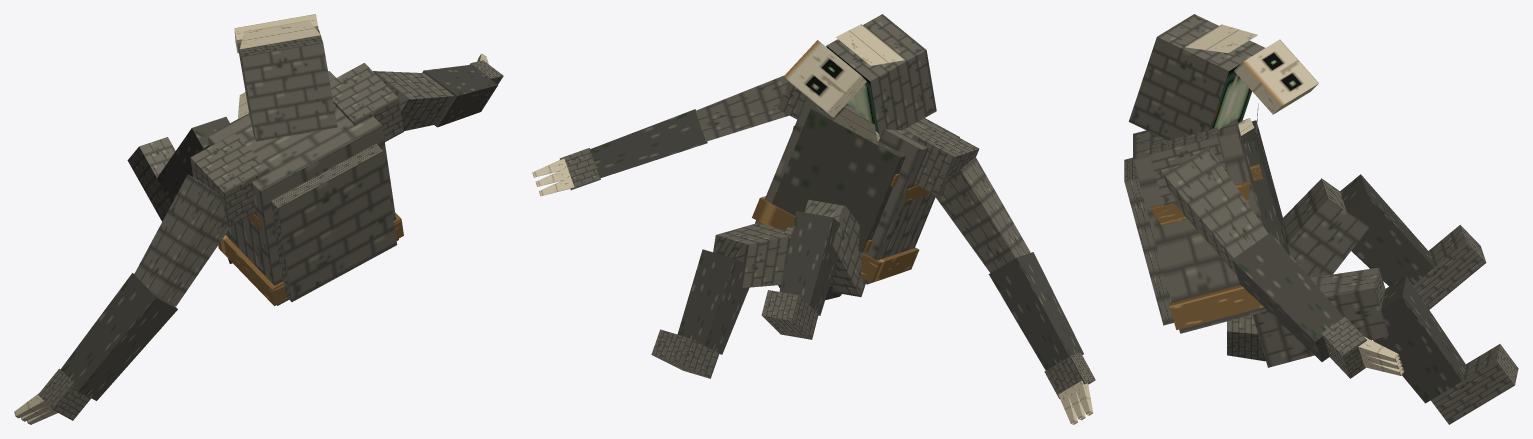
Rendered from reded_death.obj.
3 views of the same model, side by side, from view 1: azimuth 30°, elevation 25°; view 2: azimuth 150°, elevation 25°; view 3: azimuth 270°, elevation 25° (orthographic). The views are drawn at different scales.
Visible parts, largest first — view 1: spine, head, arm_l_upper, arm_l_fore, shoulder_l, shoulder_r, arm_r_upper, arm_r_fore, arm_l_hand, leg_l_foot, leg_l_shin, mask_upper; view 2: spine, head, arm_l_upper, arm_l_fore, leg_r_shin, leg_l_shin, arm_r_fore, leg_r_thigh, mask_upper, arm_r_upper, leg_l_thigh, shoulder_l (+5 smaller); view 3: spine, head, arm_r_fore, arm_r_upper, leg_r_shin, leg_l_thigh, leg_r_thigh, leg_l_shin, mask_upper, leg_r_foot, leg_l_foot, arm_r_hand (+2 smaller).
Part boxes in pixels (x1,y1,x2,y2): spine: (208,71,403,305); head: (237,20,337,141); arm_l_upper: (134,174,231,306); arm_l_fore: (60,273,177,400); shoulder_l: (190,133,269,226); shoulder_r: (330,63,403,141); arm_r_upper: (373,71,454,130); arm_r_fore: (422,65,497,127); arm_l_hand: (14,368,90,424); leg_l_foot: (127,137,175,221); leg_l_shin: (157,117,229,203); mask_upper: (234,14,318,53); spine: (752,96,959,284); head: (826,14,936,136); arm_l_upper: (933,157,1030,272); arm_l_fore: (988,252,1083,370); leg_r_shin: (677,249,749,354); leg_l_shin: (779,211,839,315); arm_r_fore: (590,109,707,178); leg_r_thigh: (713,223,790,288); mask_upper: (784,40,866,117); arm_r_upper: (695,75,789,141); leg_l_thigh: (804,199,865,296); shoulder_l: (912,126,978,196); spine: (1124,103,1289,333); head: (1128,14,1264,140); arm_r_fore: (1232,232,1343,361); arm_r_upper: (1163,146,1268,275); leg_r_shin: (1373,276,1465,403); leg_l_thigh: (1282,178,1368,277); leg_r_thigh: (1252,267,1388,367); leg_l_shin: (1340,174,1433,286); mask_upper: (1234,39,1318,114); leg_r_foot: (1431,344,1518,424); leg_l_foot: (1413,225,1486,309); arm_r_hand: (1321,317,1404,378).
Size of the model in its own units: 1.16 by 0.7279 by 0.6664.
1 material, 1 textured.
